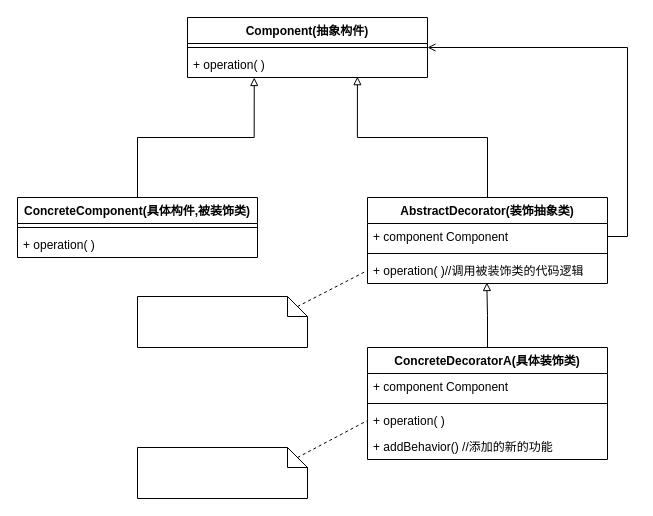
Some shapes in this 653 by 516 pixel diagram are drawn without their labels. The shapes that lost their labels are listed below. From the top down, each one's centre as x and y in pixels, then its label:
pixel 222 322: component.operation()
pixel 222 472: super.operation() addBehavior()
